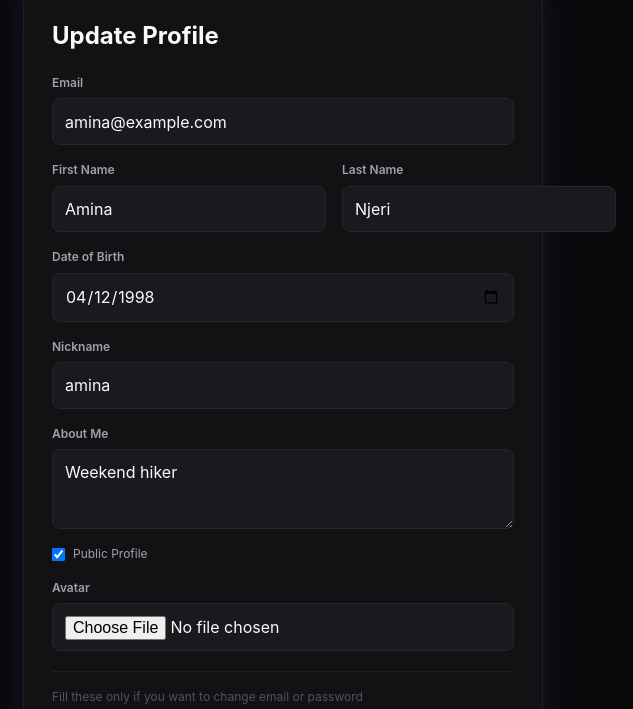
Scenario: ProfileUpdateForm › shows API errors without refreshing the profile
Replace the text in the field labelled "Email" with "new@example.com" at coordinates (283, 122), box left=52, top=98, right=514, bottom=145
(page scrolled)
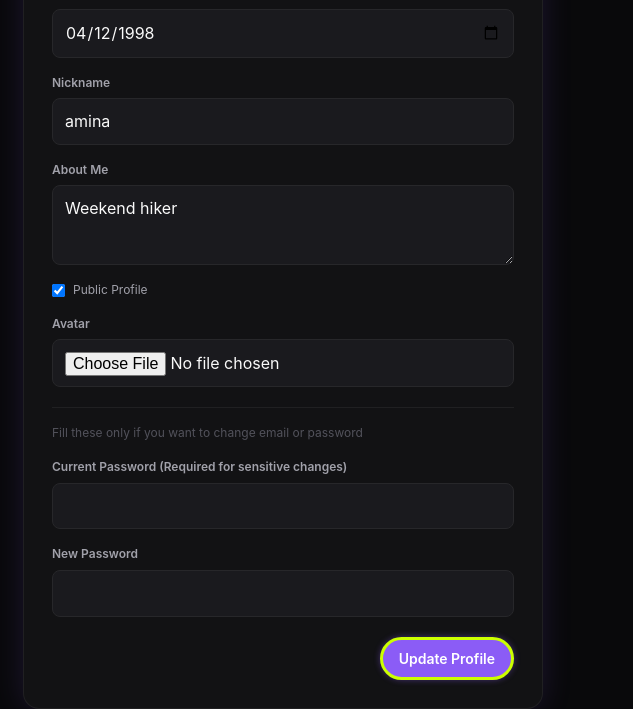
Click the button "Update Profile" at coordinates (447, 658), box left=380, top=637, right=514, bottom=680
(page scrolled)
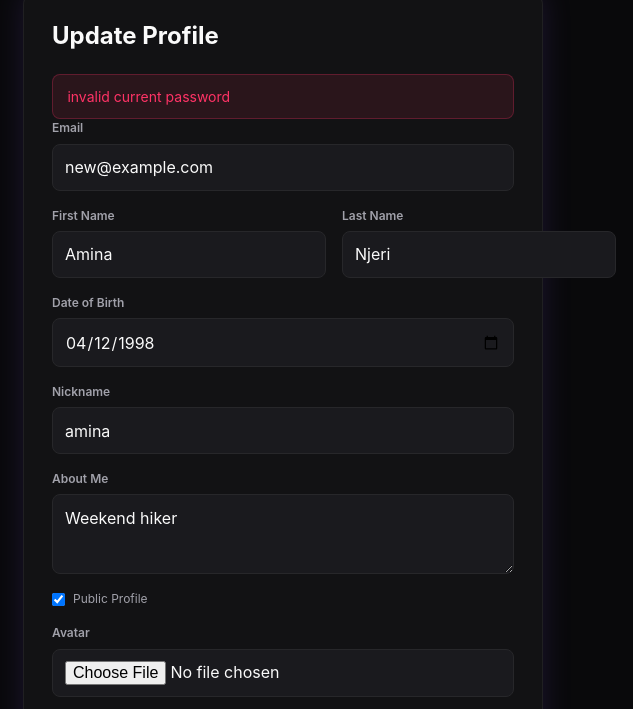
Expected: the text "invalid current password" is shown, left=52, top=74, right=514, bottom=119
